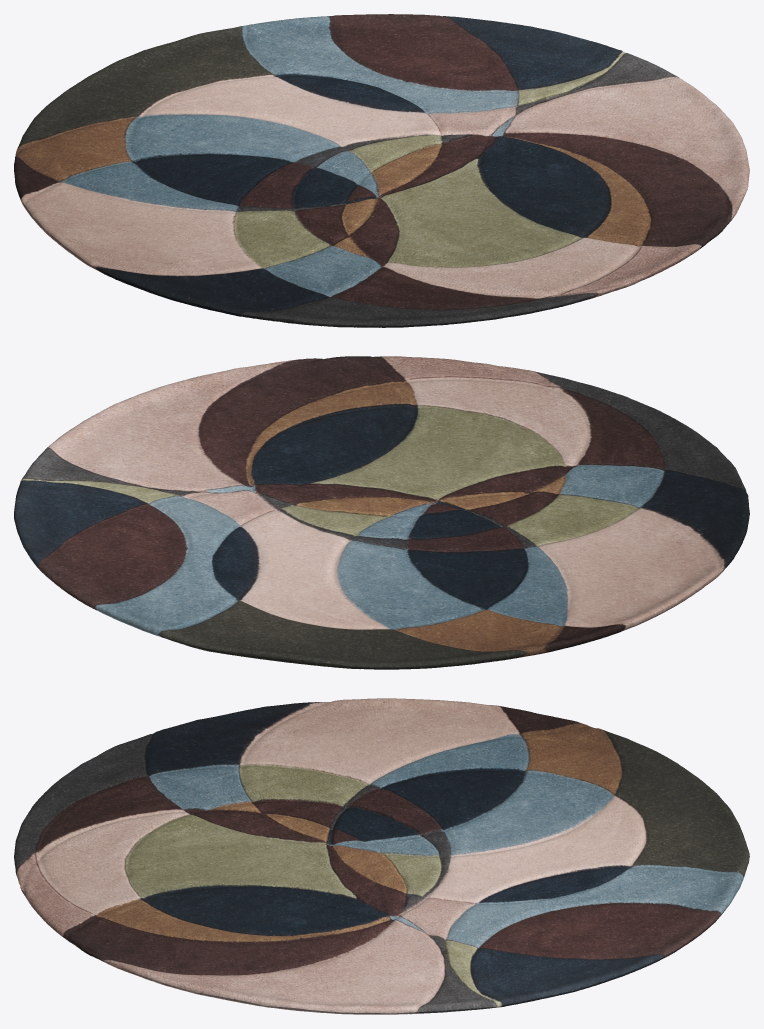
File: carpet_13_0003.glb
3 views of the same model, one above another, from view 1: azimuth 30°, elevation 25°; view 2: azimuth 150°, elevation 25°; view 3: azimuth 270°, elevation 25° (orthographic).
Visible parts, largest first — view 1: Carpet_13_0003_0001_Carpet_13_0003_mat_001_FBX_0; view 2: Carpet_13_0003_0001_Carpet_13_0003_mat_001_FBX_0; view 3: Carpet_13_0003_0001_Carpet_13_0003_mat_001_FBX_0.
Part boxes in pixels (x1,y1,x2,y2): Carpet_13_0003_0001_Carpet_13_0003_mat_001_FBX_0: [14, 14, 749, 327]; Carpet_13_0003_0001_Carpet_13_0003_mat_001_FBX_0: [14, 356, 749, 669]; Carpet_13_0003_0001_Carpet_13_0003_mat_001_FBX_0: [14, 698, 749, 1014].
Bounding box in the file's own units: 1.5 × 0.0193 × 1.5.
1 material, 1 textured.
